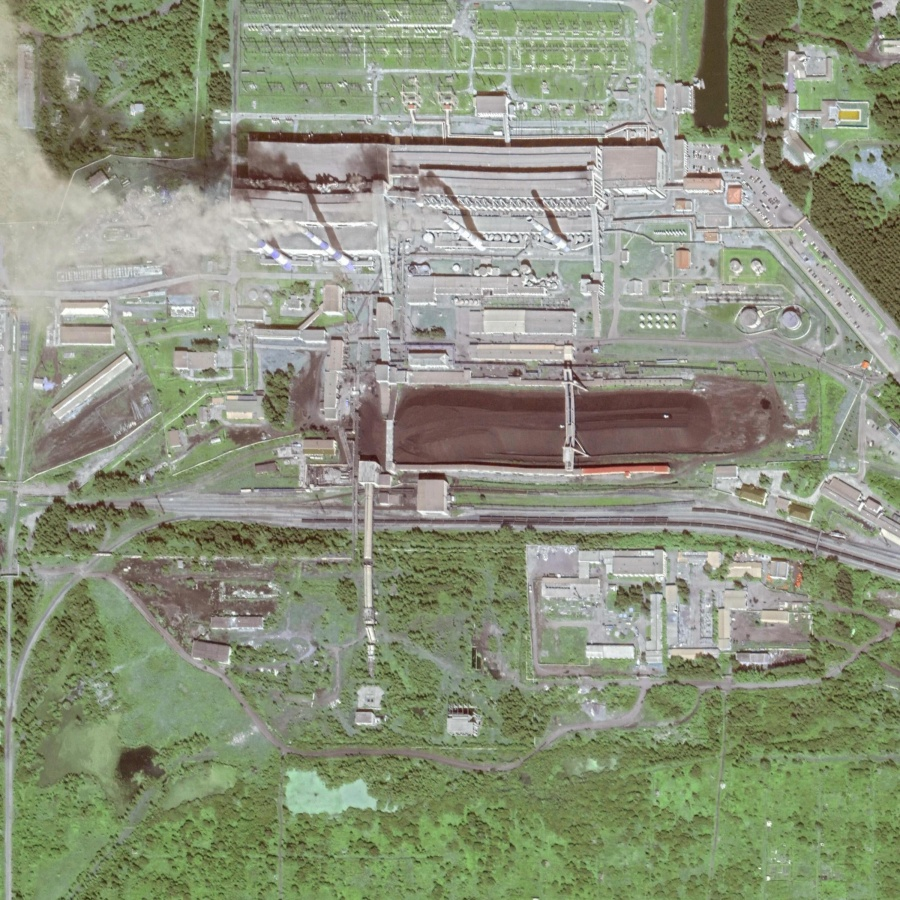PowerPlant: (206, 138, 806, 480)
